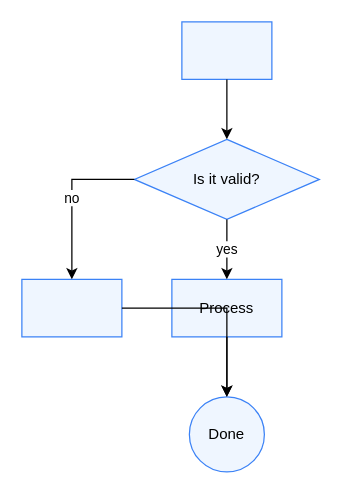
Some shapes in this 341 by 494 pixel diagram are drawn without their labels. Here are the shapes that lost their labels. From the top down, the box of each, then its label:
(181, 21, 272, 79): Start
(21, 278, 122, 337): Reject
